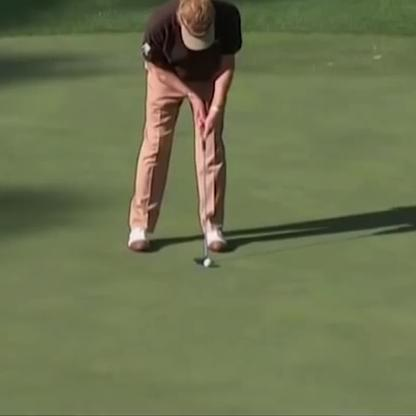golfball: (202, 254, 213, 267)
